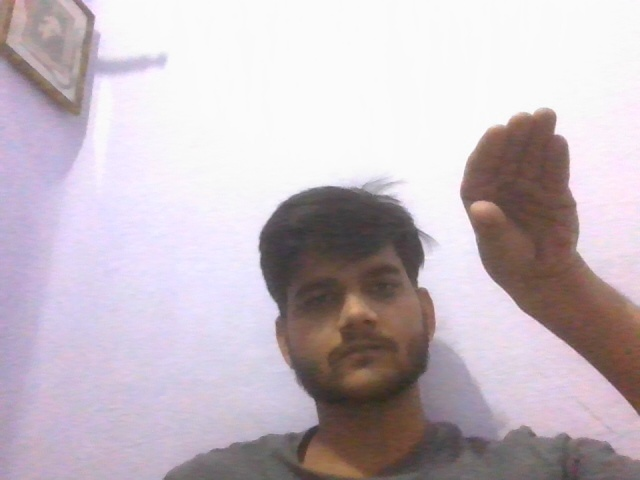sorry: (436, 100, 614, 315)
